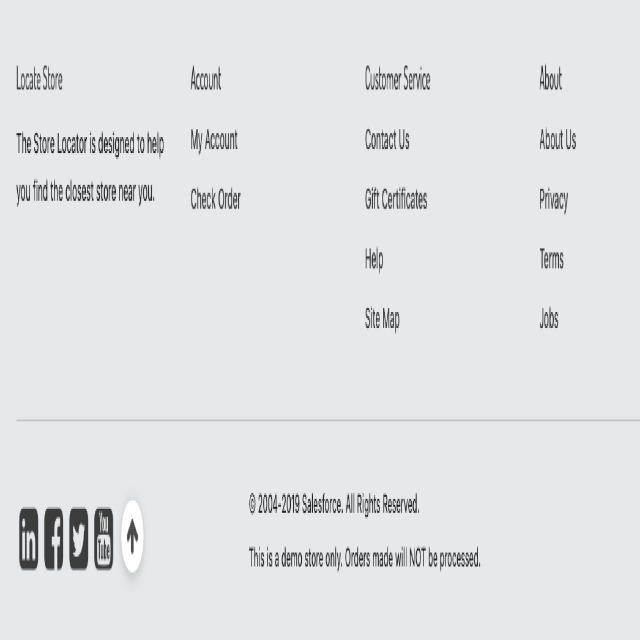FooterContent: (9, 26, 590, 600)
